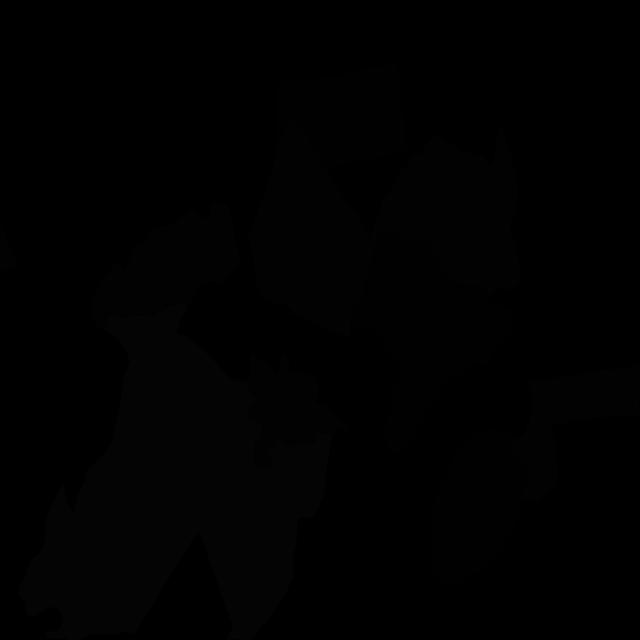cardboard: (248, 116, 374, 338), (370, 122, 520, 298), (91, 203, 240, 331), (509, 363, 640, 503), (243, 352, 350, 468), (0, 224, 18, 272)
rigid_plastic: (350, 226, 514, 454), (429, 426, 526, 588), (276, 64, 406, 167)
soft_plastic: (18, 303, 332, 640)
